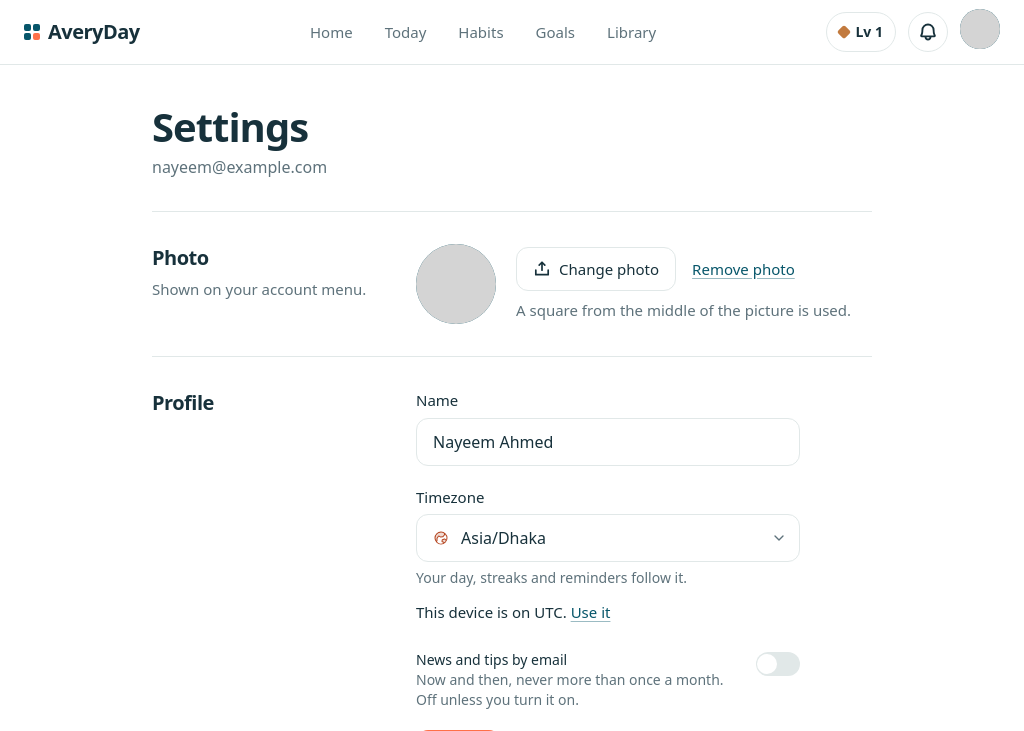
Scenario: profile picture › removes it, back to initials
Click the button "Remove photo": (743, 269) [692,251,795,287]
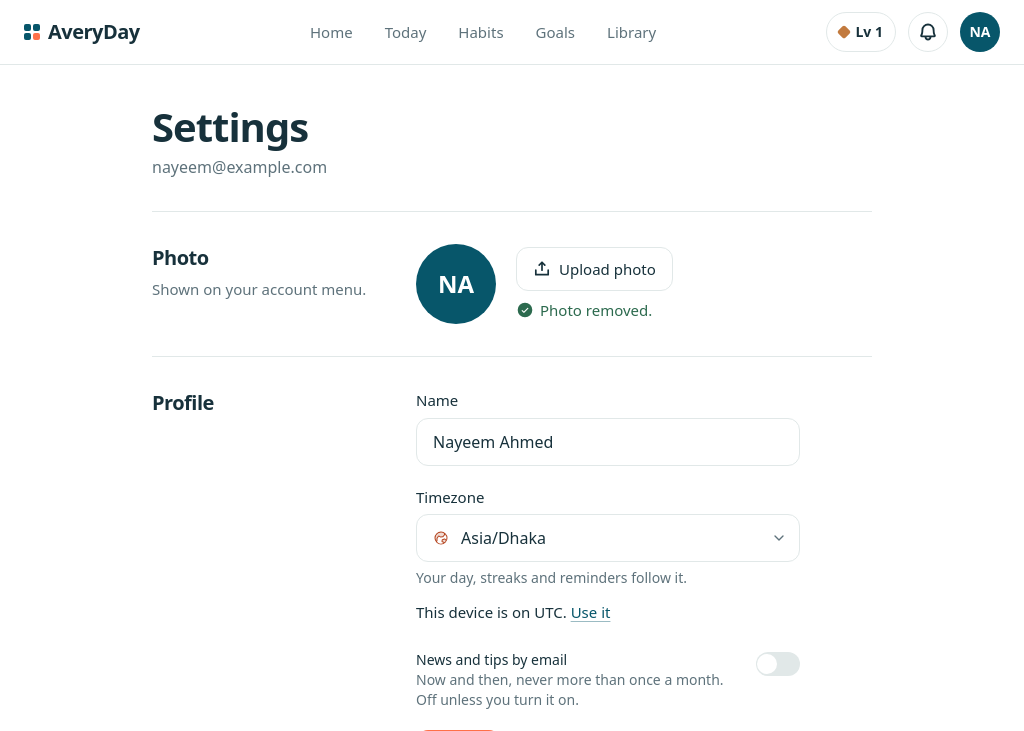
Check: the text "Photo removed." is shown, box [516,299,673,321]
Check: the button with aria-label "Account," reads "NA", box [960,12,1000,52]
Check: the file field labelled "Upload photo" is shown, box [516,247,673,291]
